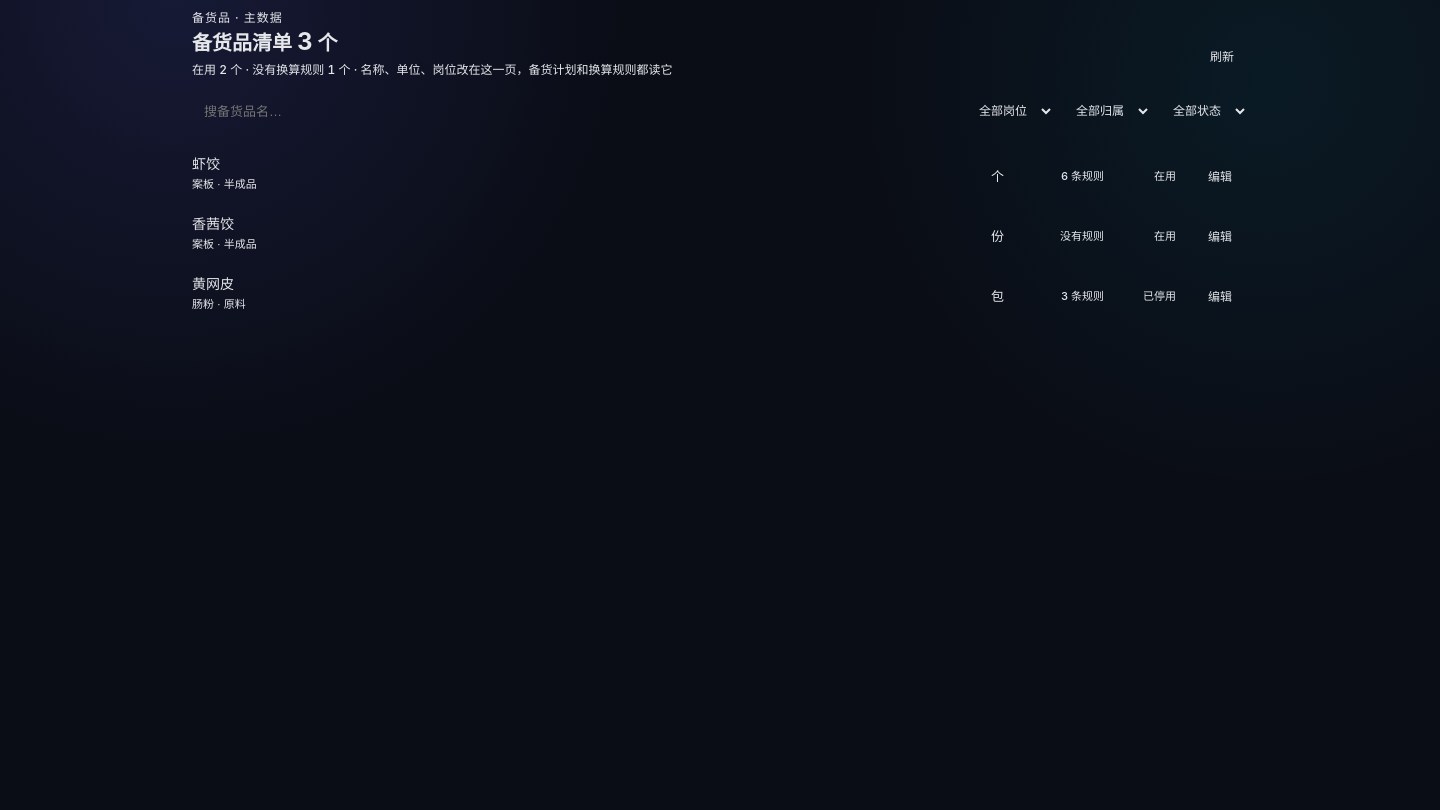
Test case: 编辑 › 点编辑打开表单，保存时提交名称/单位/岗位/归属/启用/备注
The width and height of the screenshot is (1440, 810).
Click the button "编辑" in the row of "没有规则" at (1220, 235), box [1192, 213, 1248, 257]
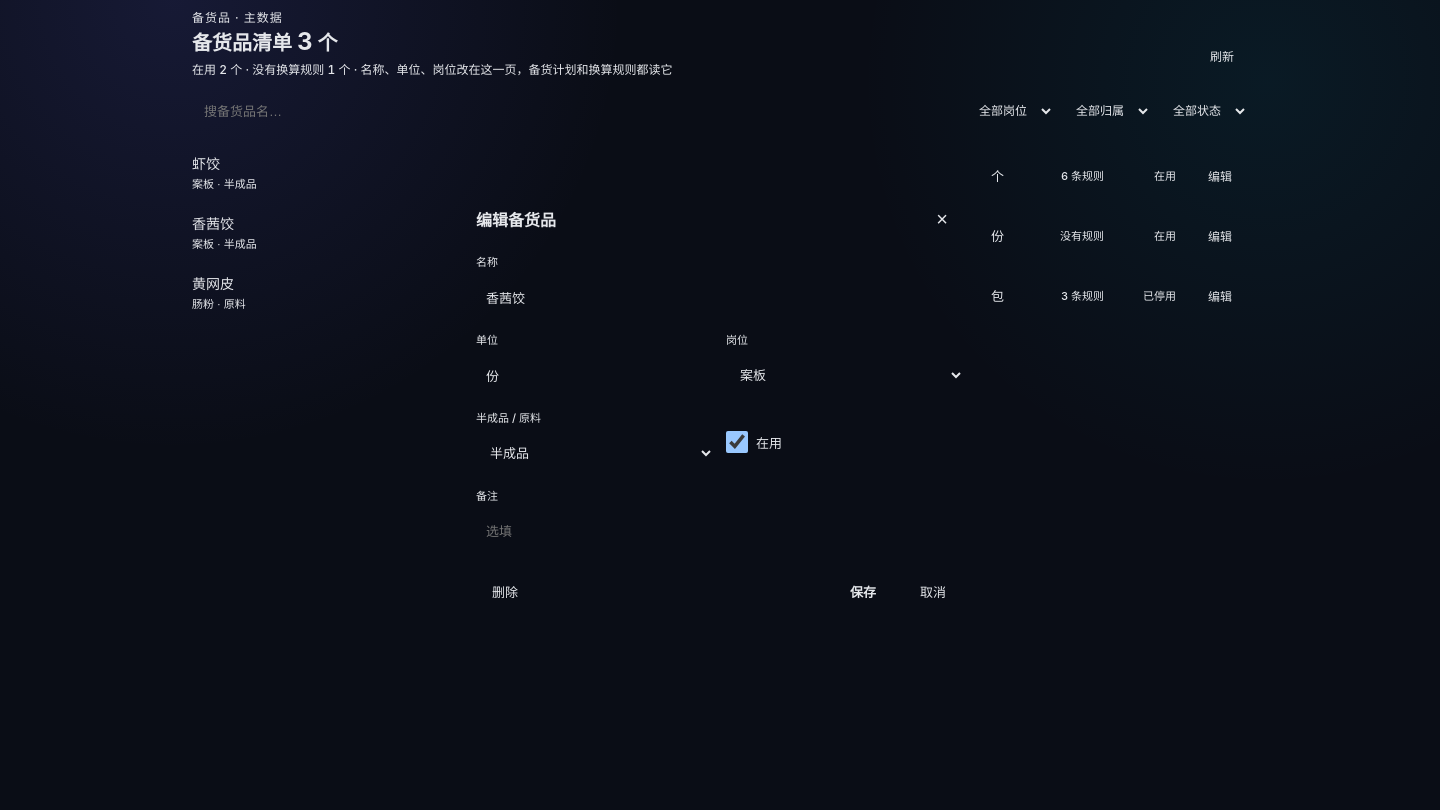
Expected: the dialog is shown, [460, 181, 980, 629]
Replace the text in the field labelled "名称" with "香茜饺（改名）" at (720, 297), box [476, 275, 964, 319]
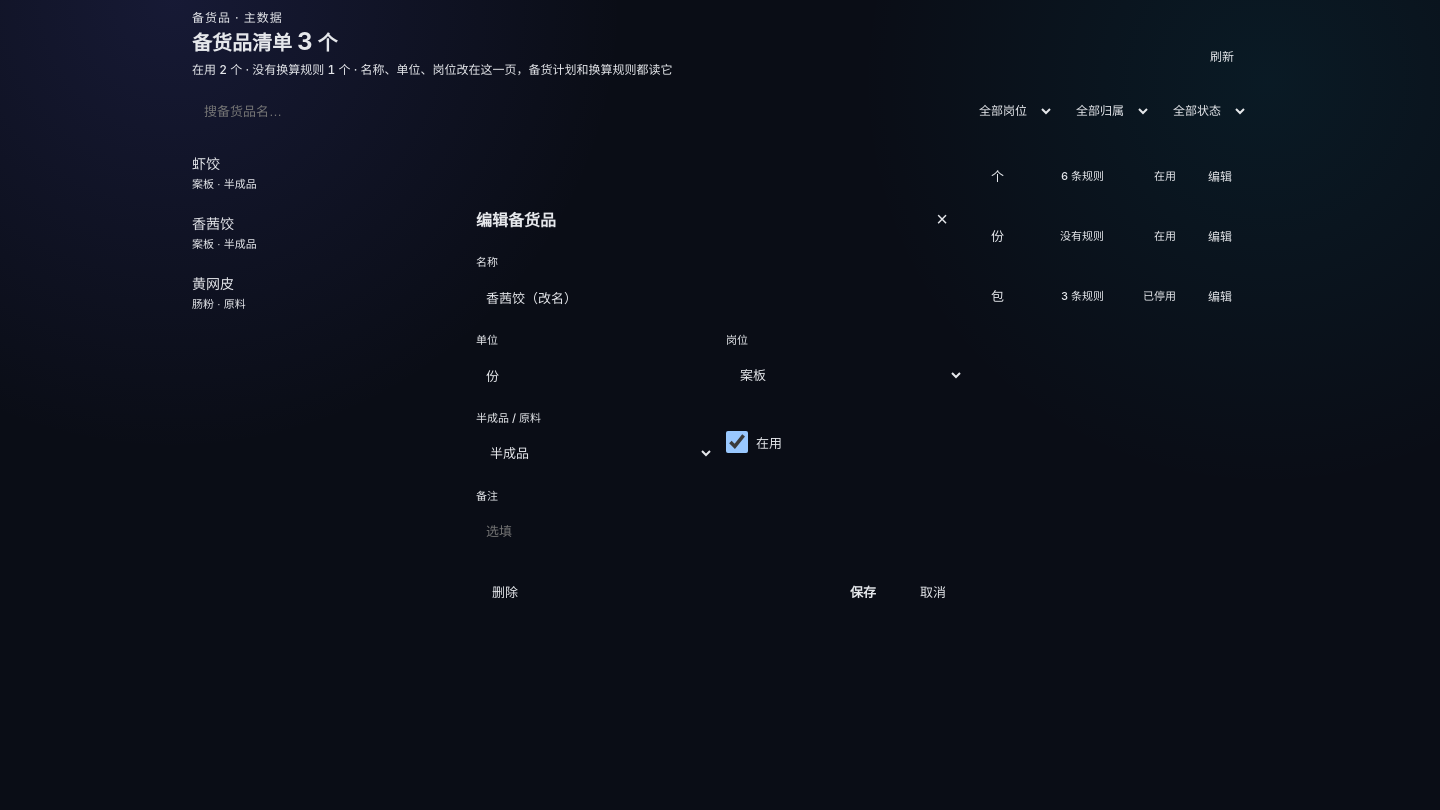
Select "原料" in the dropdown labelled "半成品 / 原料" at (595, 453), box [476, 431, 714, 475]
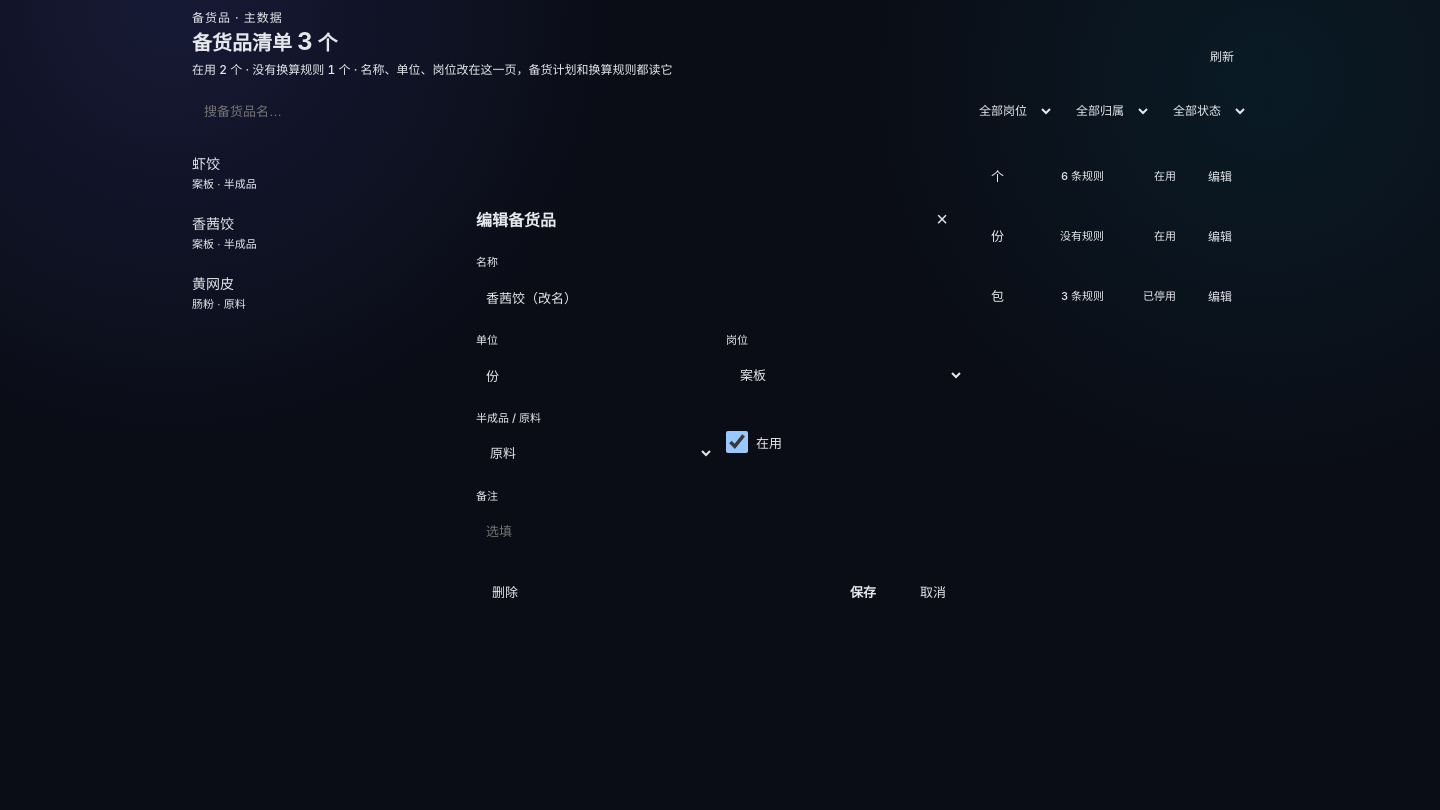
Submit the dialog, box [460, 181, 980, 629]
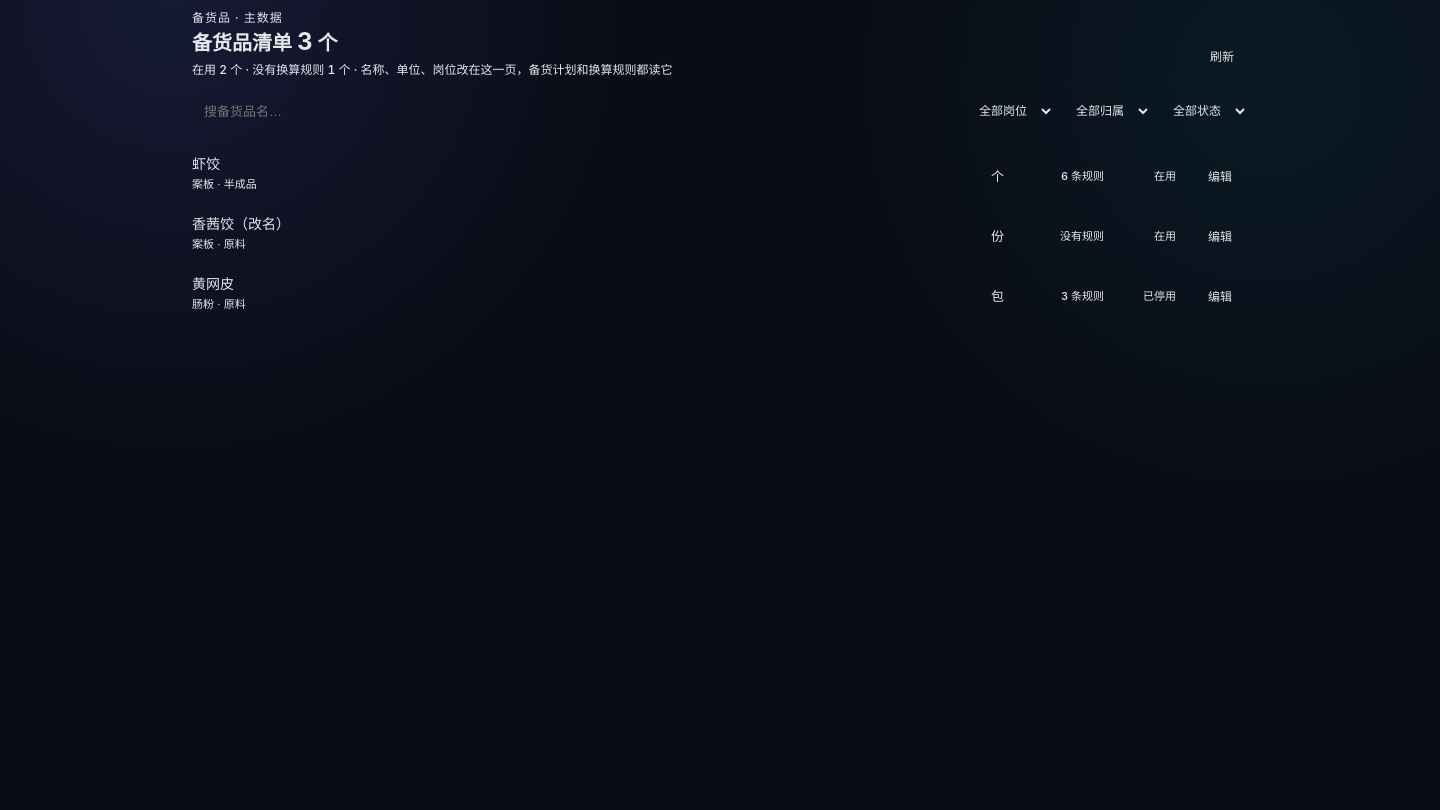
Expected: the text "香茜饺（改名）" is shown, [192, 213, 290, 233]
